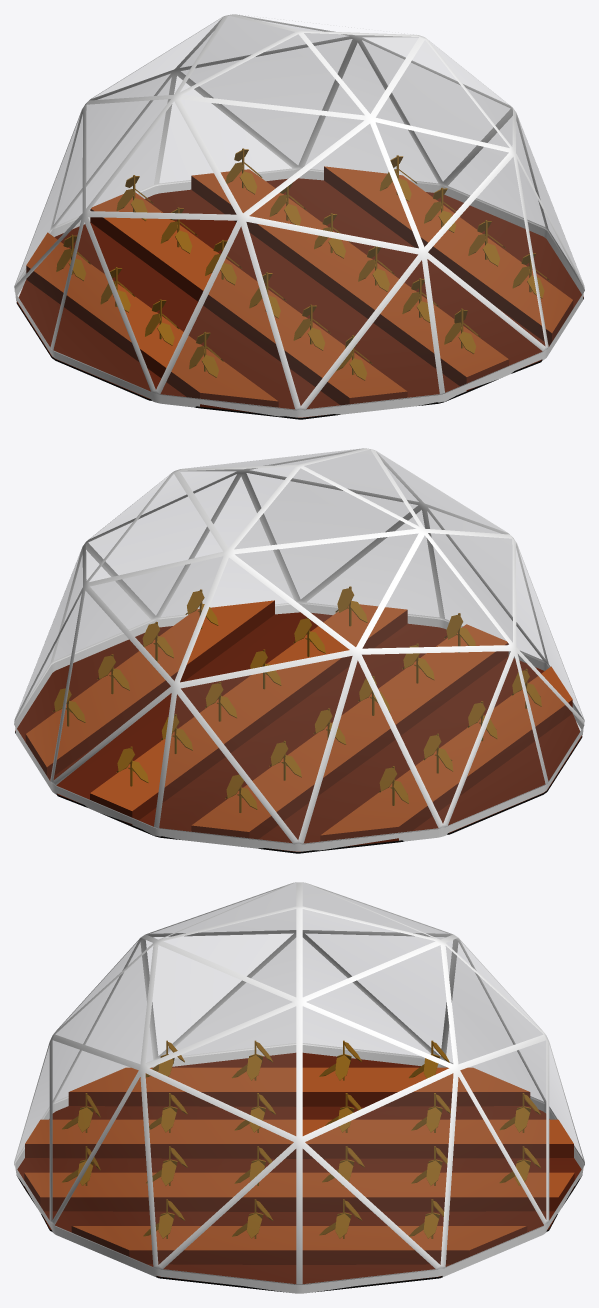
The model's file is potato-crop-broken.FBX.
3 renders of one model, top to bottom at view 1: azimuth 30°, elevation 25°; view 2: azimuth 150°, elevation 25°; view 3: azimuth 270°, elevation 25°, orthographic.
Parts seen in each view (by area): view 1: GeoSphere002, Box126; view 2: GeoSphere002, Box126; view 3: GeoSphere002, Box126.
Boxes of the visible parts, x1,y1,x2,y2 form: GeoSphere002: (14, 14, 584, 417); Box126: (16, 166, 583, 419); GeoSphere002: (14, 448, 584, 851); Box126: (15, 600, 582, 853); GeoSphere002: (14, 882, 584, 1293); Box126: (17, 1052, 581, 1292).
Bounding box in the file's own units: 7.49 × 3.86 × 7.49.
